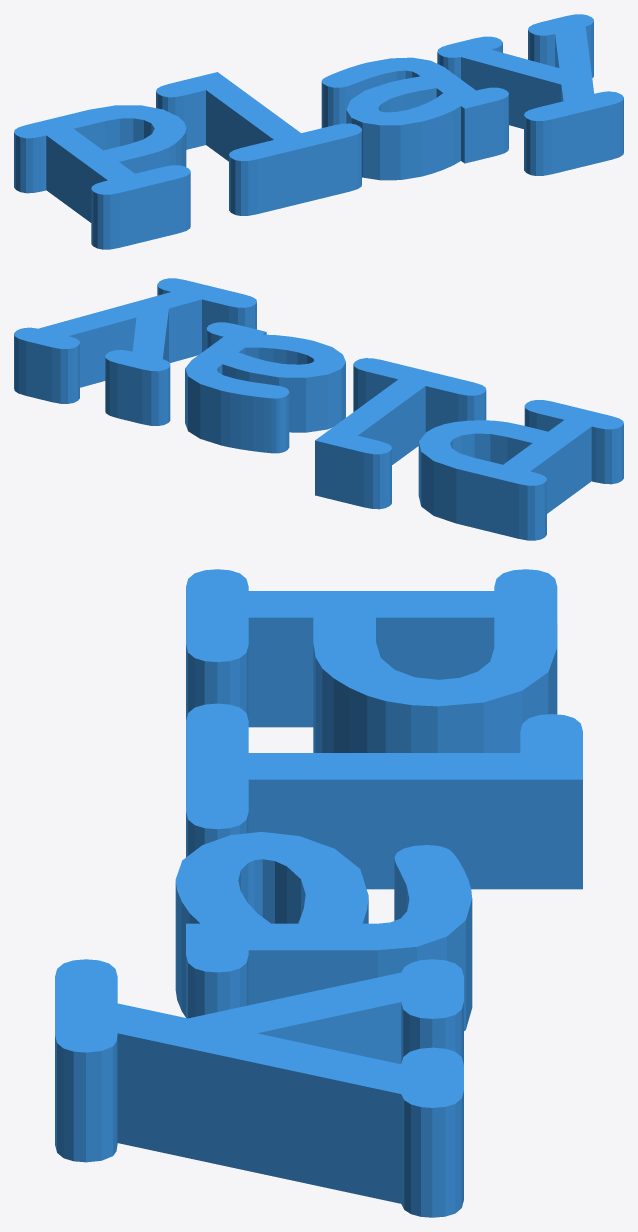
File: Play.glb
3 renders of one model, top to bottom at view 1: azimuth 30°, elevation 25°; view 2: azimuth 150°, elevation 25°; view 3: azimuth 270°, elevation 25°, orthographic. The views are drawn at different scales.
Visible parts, largest first — view 1: Play; view 2: Play; view 3: Play.
Boxes of the visible parts, x1,y1,x2,y2 form: Play: (14,14,623,249); Play: (14,278,623,540); Play: (55,569,582,1217).
Bounding box in the file's own units: 1.05 × 0.1 × 0.436.
